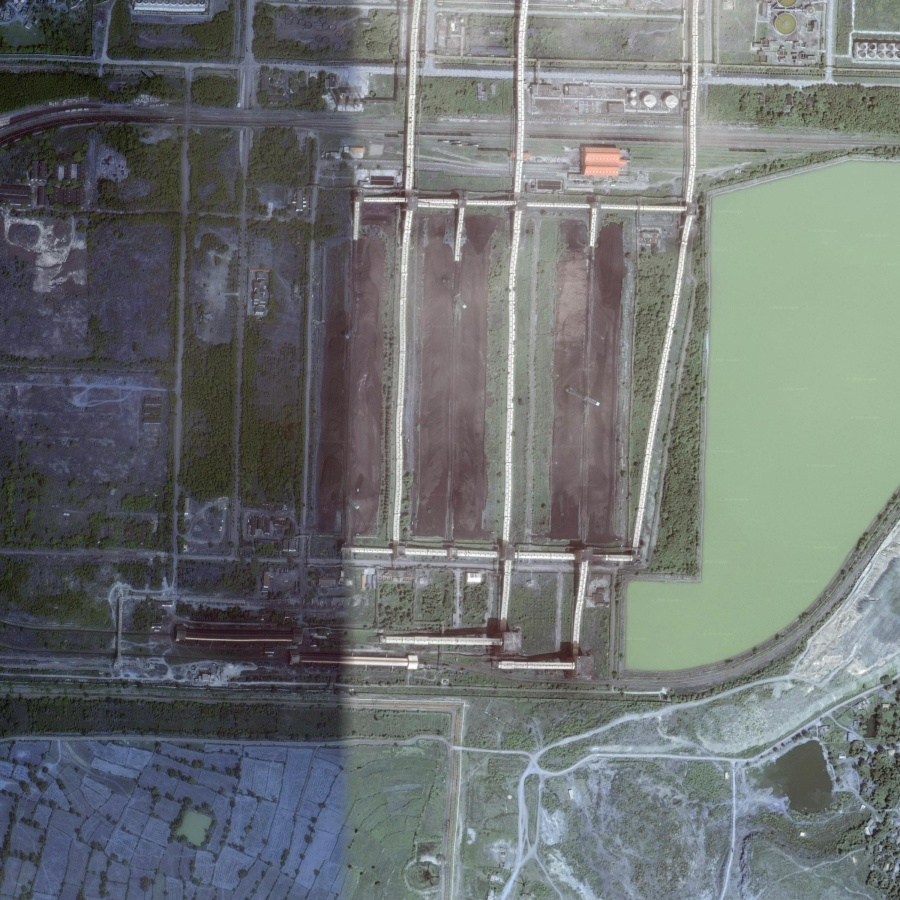PowerPlant: (307, 179, 666, 574)
